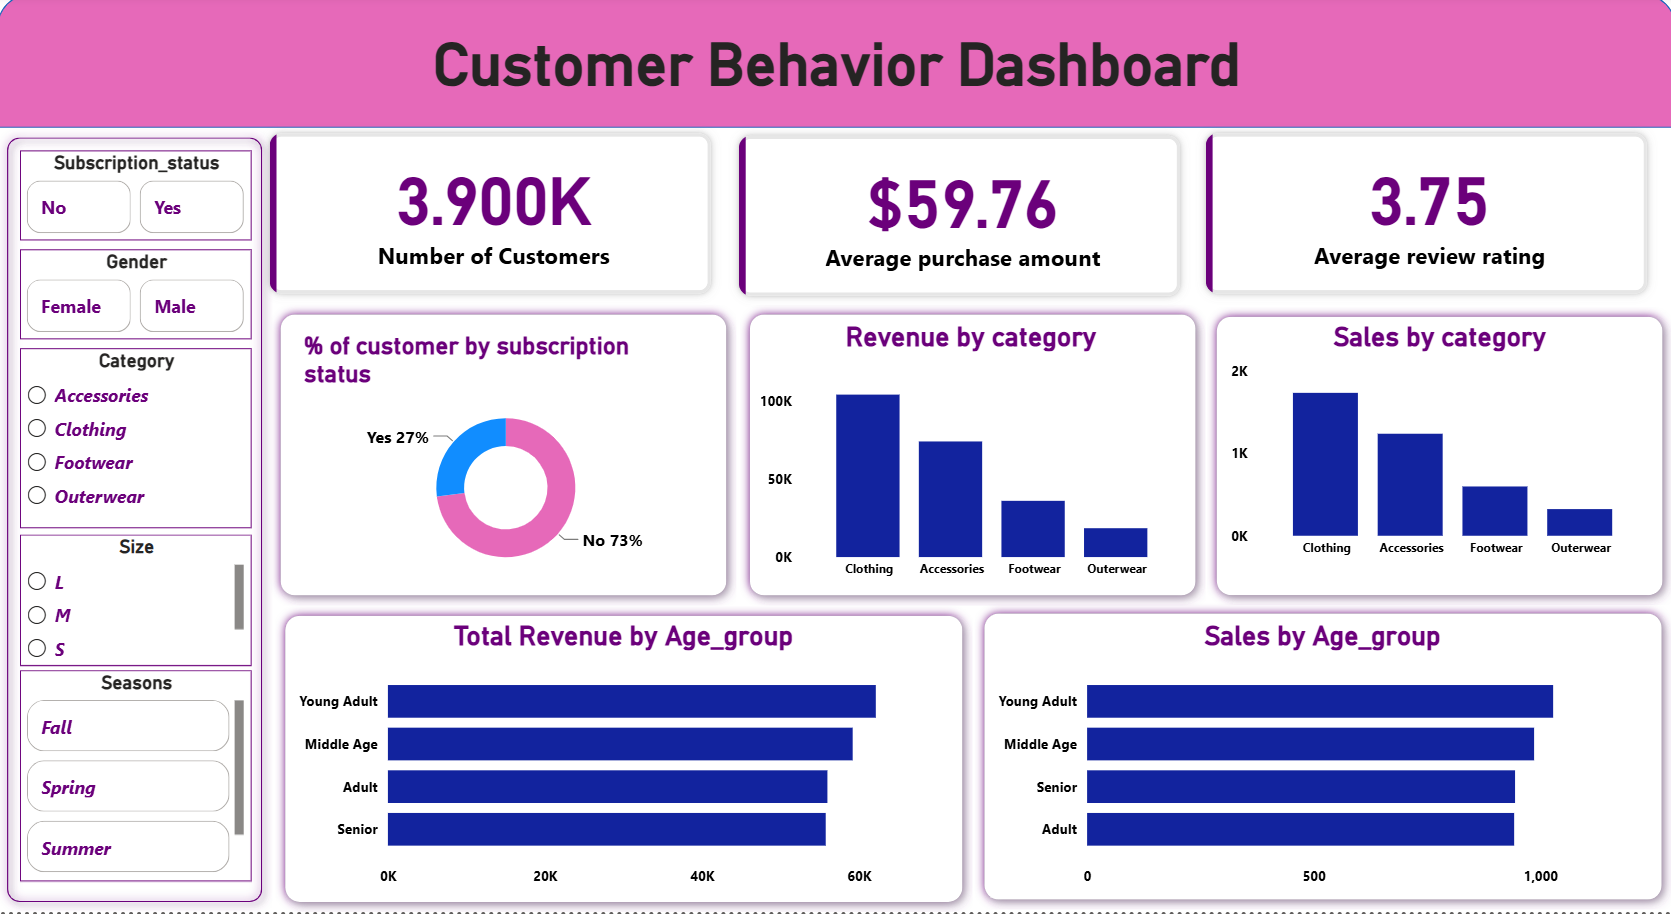

What the dashboard file says about the page in this screenshot:
{"tool":"powerbi","page":{"name":"Customer_Behavior","canvas":[1500,820],"ordinal":0},"visuals":[{"type":"shape","box":[0,0,1500,119.5],"z":0,"group":"g2"},{"type":"shape","box":[243.6,278.1,416,268.9],"z":0,"group":"g1"},{"type":"shape","box":[664.3,278.1,416,268.9],"z":0,"group":"g4"},{"type":"shape","box":[1080.3,280.4,416,266.6],"z":0},{"type":"shape","box":[248.2,547,622.9,273.5],"z":0},{"type":"cardVisual","fields":{"Data":["customer.Number of Customers"]},"box":[216.1,96.5,450,200],"z":1000,"group":"g3"},{"type":"group","id":"g1","title":"Group 1","box":[243.6,278.1,416,268.9],"z":1000},{"type":"donutChart","title":"% of customer by subscription status","fields":{"Category":["customer.subscription_status"],"Y":["CountNonNull(customer.customer_id)"]},"box":[267.6,303.2,370.3,223.7],"z":1000,"group":"g1"},{"type":"group","id":"g2","title":"Group 2","box":[0,0,1500.9,119.5],"z":2000},{"type":"cardVisual","fields":{"Data":["customer.Average review rating"]},"box":[1052.8,96.5,450,200],"z":2000,"group":"g3"},{"type":"group","id":"g3","title":"Group 3","box":[216.1,96.5,1286.7,202.3],"z":3000},{"type":"cardVisual","fields":{"Data":["customer.Average purchase amount"]},"box":[634.4,98.8,450.5,200],"z":3000,"group":"g3"},{"type":"textbox","box":[0,27.4,1500.9,91.8],"z":4000,"group":"g2"},{"type":"clusteredColumnChart","title":"Sales by category","fields":{"Category":["customer.category"],"Y":["CountNonNull(customer.customer_id)"]},"box":[1096.7,291.7,383.3,220],"z":4000},{"type":"group","id":"g4","title":"Group 4","box":[664.3,278.1,416,268.9],"z":5000},{"type":"shape","box":[0,119.5,245.9,701],"z":6000},{"type":"advancedSlicerVisual","title":"Subscription_status","fields":{"Values":["customer.subscription_status"]},"box":[20.7,140.2,206.9,80.4],"z":7000},{"type":"clusteredColumnChart","title":"Revenue by category","fields":{"Category":["customer.category"],"Y":["Sum(customer.purchased_amount)"]},"box":[677.5,291.6,388.4,239],"z":7003,"group":"g4"},{"type":"advancedSlicerVisual","title":"Gender","fields":{"Values":["customer.gender"]},"box":[20.7,227.6,206.9,80.4],"z":8000},{"type":"listSlicer","title":"Category","fields":{"Values":["customer.category"]},"box":[20.7,317.2,206.9,160.9],"z":9000},{"type":"advancedSlicerVisual","title":"Seasons","fields":{"Values":["customer.season"]},"box":[20.7,604.5,206.9,188.5],"z":10000},{"type":"listSlicer","title":"Size","fields":{"Values":["customer.size"]},"box":[20.7,482.7,206.9,117.2],"z":11000},{"type":"clusteredBarChart","fields":{"Y":["Sum(customer.purchased_amount)"],"Category":["customer.Age_group"]},"box":[262,558.5,593,248.2],"z":12000},{"type":"shape","box":[873.4,544.7,622.9,273.5],"z":12001,"group":"g5"},{"type":"clusteredBarChart","fields":{"Category":["customer.Age_group"],"Y":["CountNonNull(customer.customer_id)"]},"box":[887.2,558.5,593,248.2],"z":12002,"group":"g5"},{"type":"group","id":"g5","title":"Group 5","box":[873.4,544.7,622.9,273.5],"z":12003}]}

Visuals, with their boxes in screenshot pixels (x1, y1, x2, y2), scaled from the page's 1500x820 canvas onto the 1671x914 screenshot:
shape: crop(0, 0, 1670, 133)
shape: crop(271, 310, 735, 610)
shape: crop(740, 310, 1203, 610)
shape: crop(1203, 313, 1667, 610)
shape: crop(276, 610, 970, 913)
cardVisual - customer.Number of Customers: crop(241, 108, 742, 330)
"Group 1" group: crop(271, 310, 735, 610)
"% of customer by subscription status" donutChart: crop(298, 338, 711, 587)
"Group 2" group: crop(0, 0, 1670, 133)
cardVisual - customer.Average review rating: crop(1173, 108, 1670, 330)
"Group 3" group: crop(241, 108, 1670, 333)
cardVisual - customer.Average purchase amount: crop(707, 110, 1209, 333)
textbox: crop(0, 31, 1670, 133)
"Sales by category" clusteredColumnChart: crop(1222, 325, 1649, 570)
"Group 4" group: crop(740, 310, 1203, 610)
shape: crop(0, 133, 274, 913)
"Subscription_status" advancedSlicerVisual: crop(23, 156, 254, 246)
"Revenue by category" clusteredColumnChart: crop(755, 325, 1187, 591)
"Gender" advancedSlicerVisual: crop(23, 254, 254, 343)
"Category" listSlicer: crop(23, 354, 254, 533)
"Seasons" advancedSlicerVisual: crop(23, 674, 254, 884)
"Size" listSlicer: crop(23, 538, 254, 669)
clusteredBarChart - Sum(customer.purchased_amount) x customer.Age_group: crop(292, 623, 952, 899)
shape: crop(973, 607, 1667, 912)
clusteredBarChart - customer.Age_group x CountNonNull(customer.customer_id): crop(988, 623, 1649, 899)
"Group 5" group: crop(973, 607, 1667, 912)
